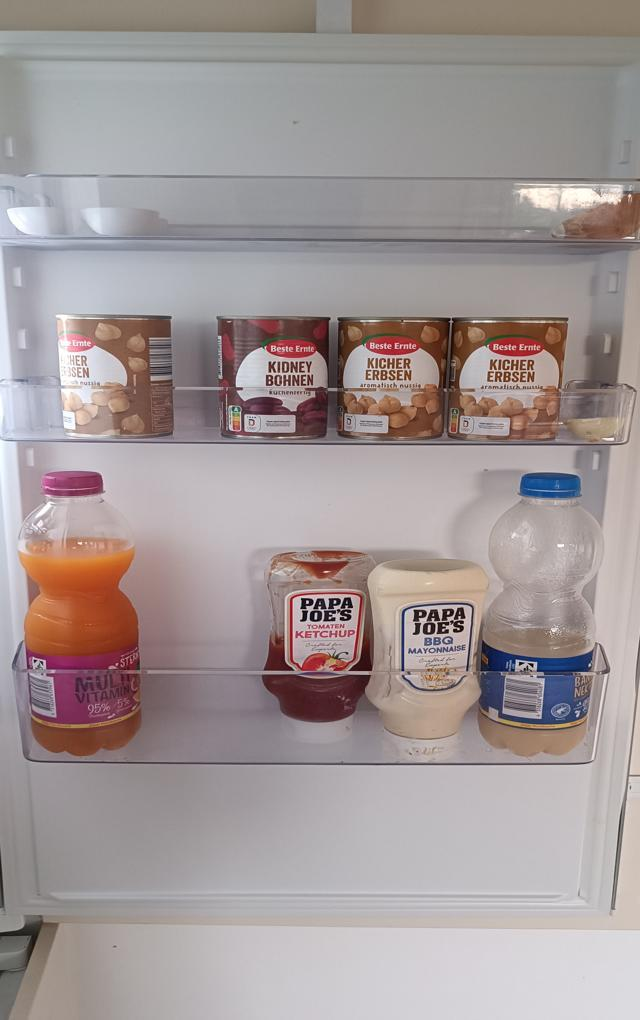bananajuice: (484, 468, 602, 768)
chickpeas: (451, 313, 568, 440), (61, 316, 175, 439), (342, 320, 450, 444)
kidneybeans: (219, 315, 331, 439)
mayoniasie: (363, 559, 488, 765)
orangejuice: (15, 474, 148, 754)
tomatoketchup: (261, 545, 386, 740)
